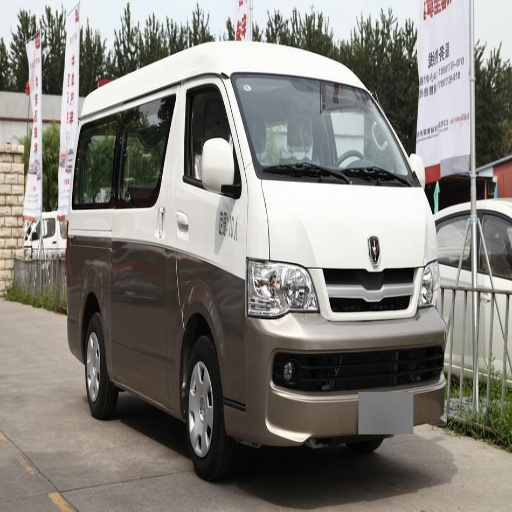front_bumper: (219, 267, 447, 442)
front_glass: (231, 74, 413, 185)
front_left_door: (118, 320, 160, 396)
front_right_door: (175, 76, 244, 252)
front_right_light: (248, 260, 318, 317)
hood: (265, 181, 436, 272)
trunk: (64, 230, 197, 361)
